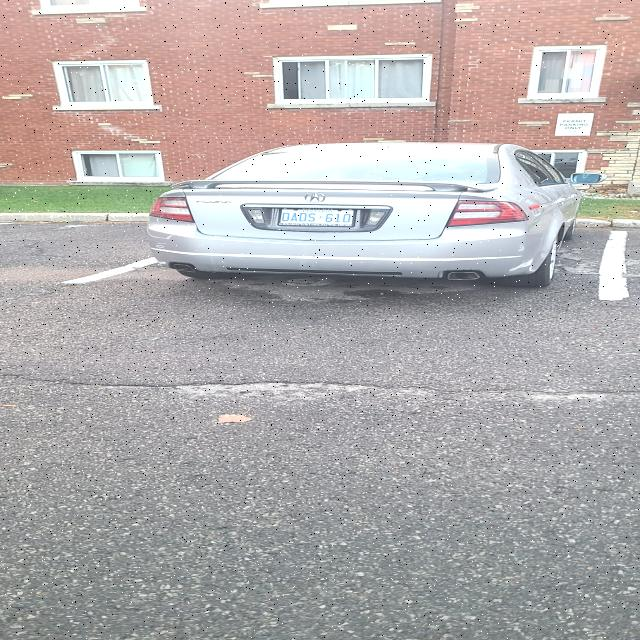plaque: (279, 209, 354, 226)
